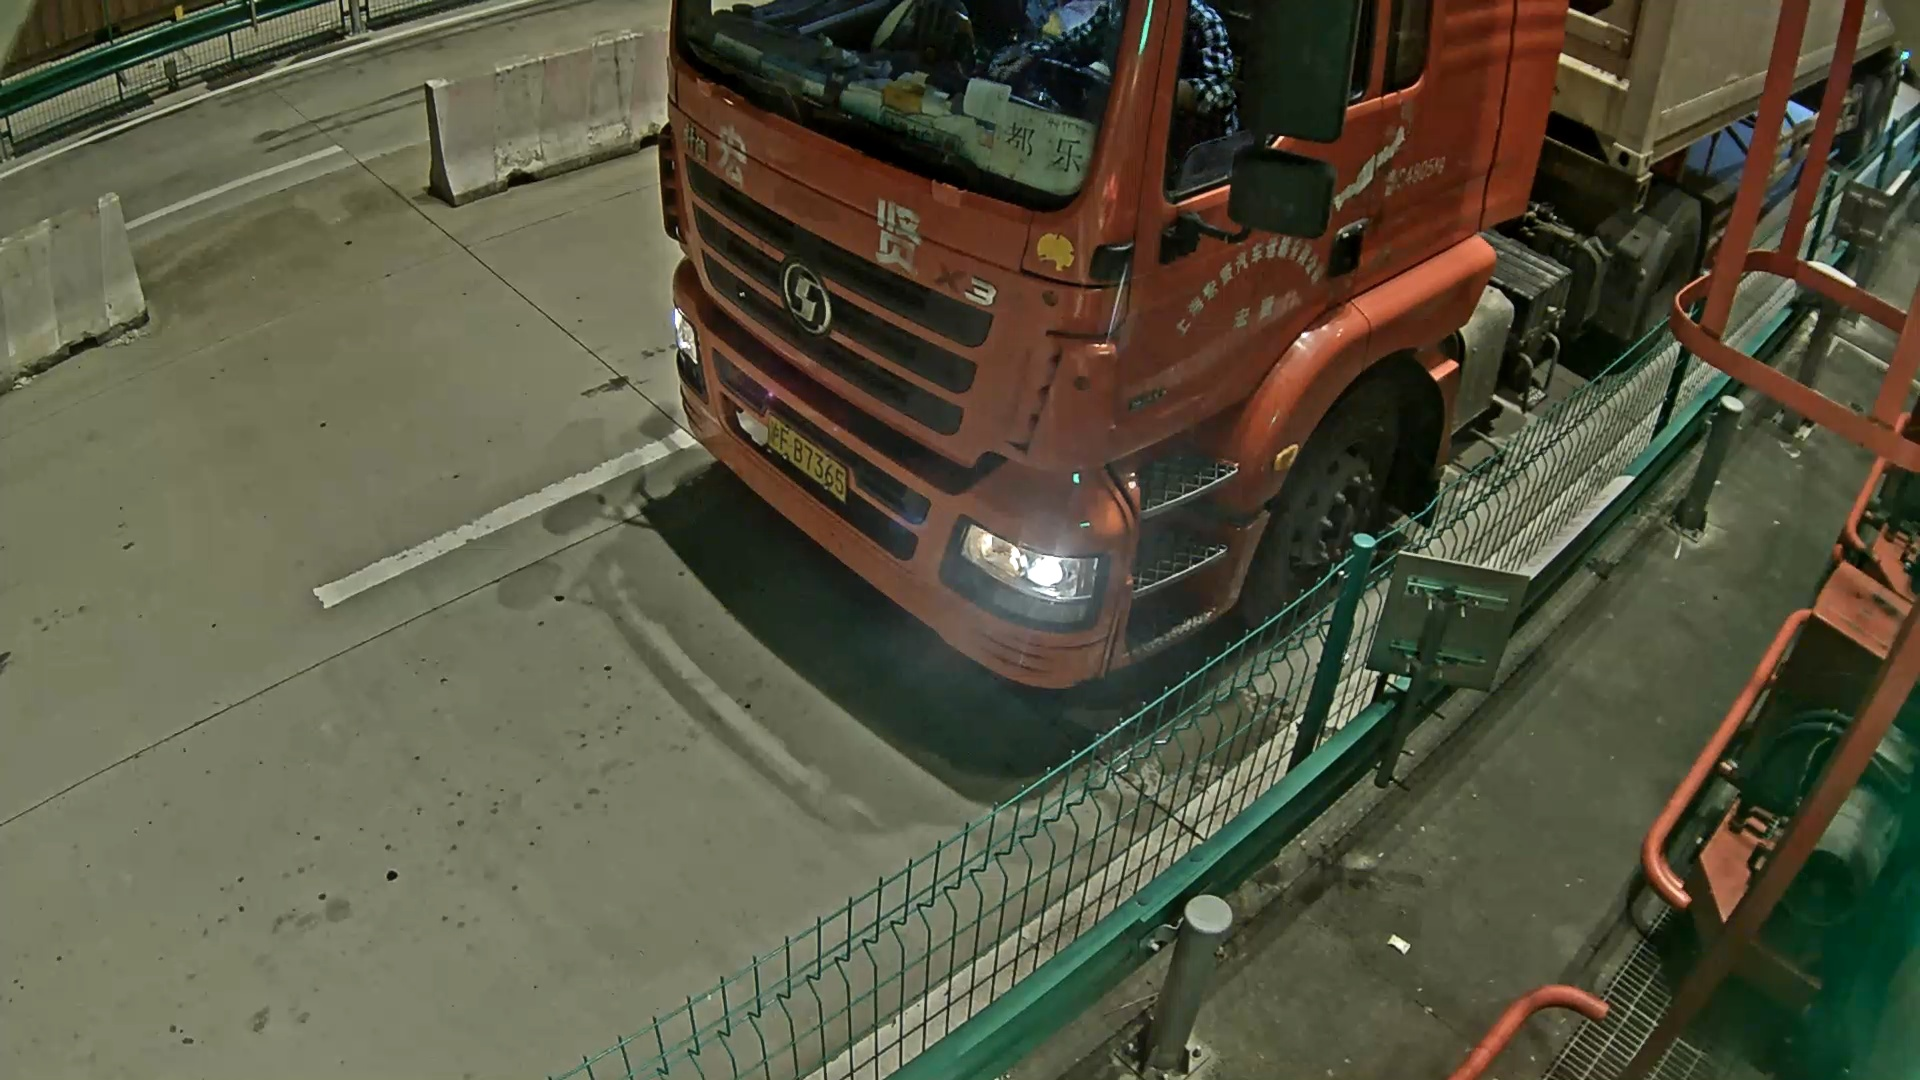head: (651, 1, 1562, 683)
plate: (764, 414, 847, 497)
